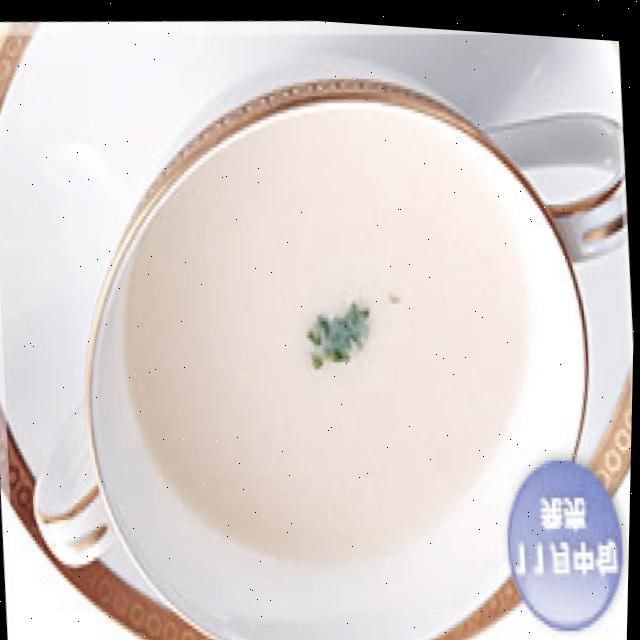汤锅炖物: (0, 9, 514, 640)
